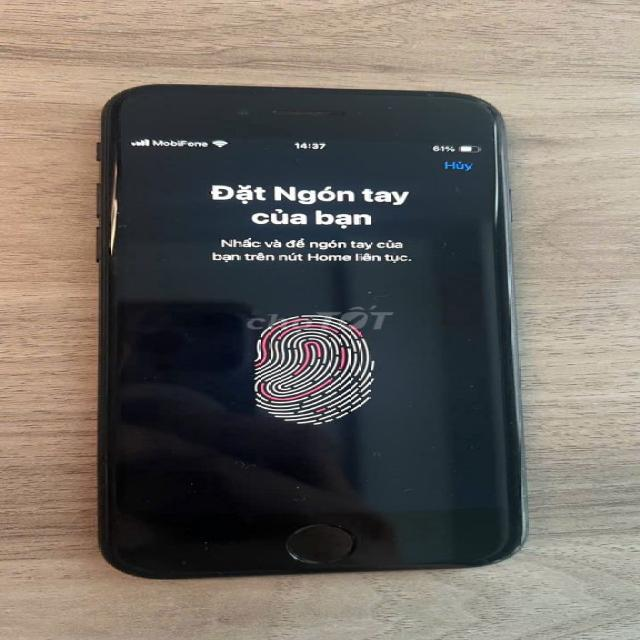scratch: (380, 81, 497, 119)
screen_defect: (96, 150, 130, 254)
